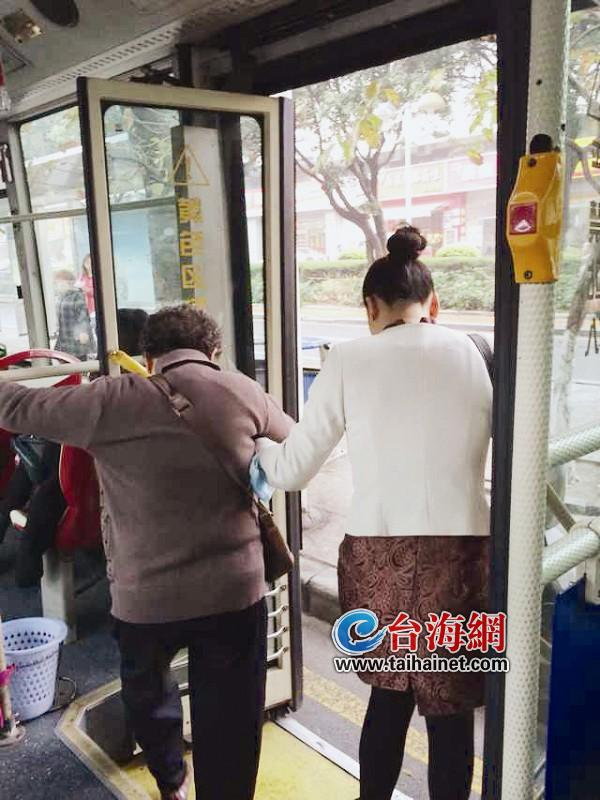other: (15, 304, 318, 785), (253, 213, 494, 783)
